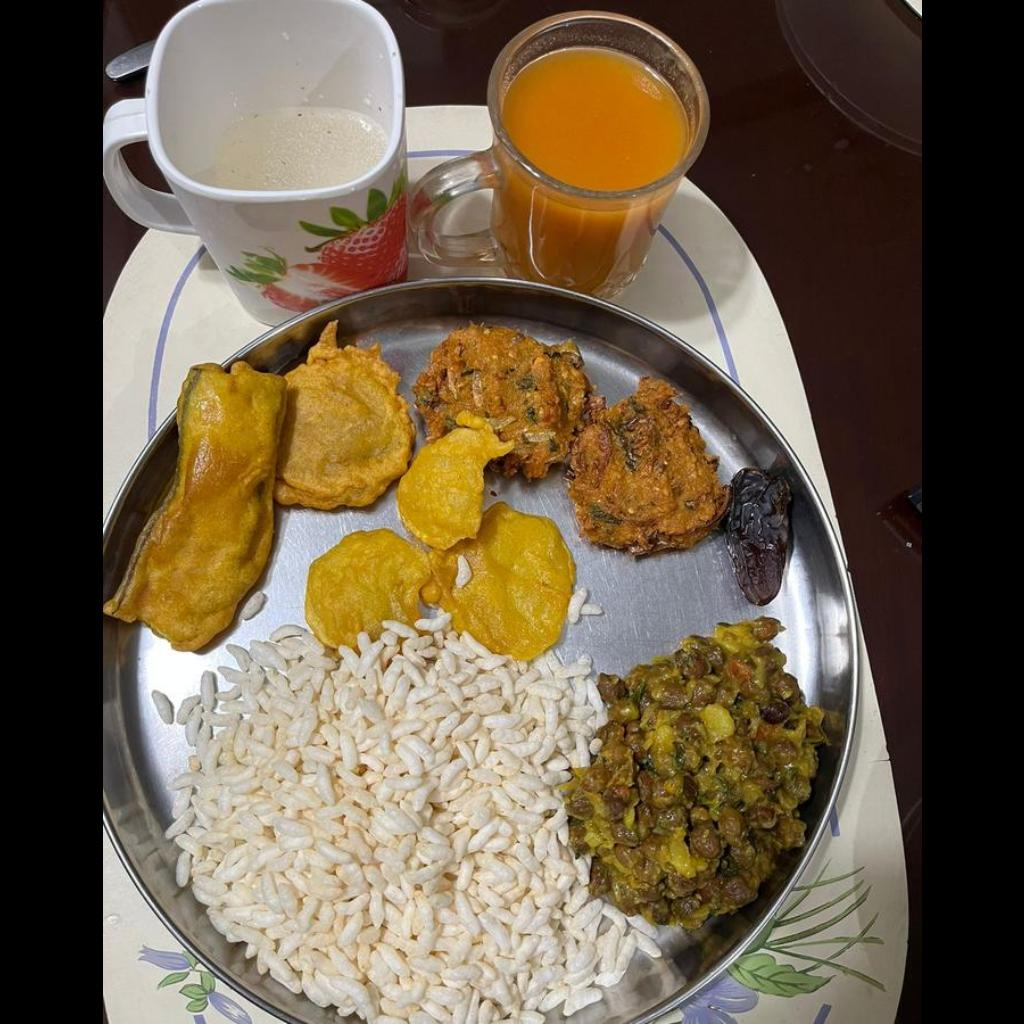beguni: (102, 362, 285, 651)
chola: (575, 616, 832, 924)
chop-alu: (273, 323, 573, 661)
dates: (729, 461, 788, 599)
juice: (509, 46, 684, 180), (199, 107, 384, 193)
peyaju: (426, 318, 717, 535)
puffed-rice: (167, 617, 657, 1023)
